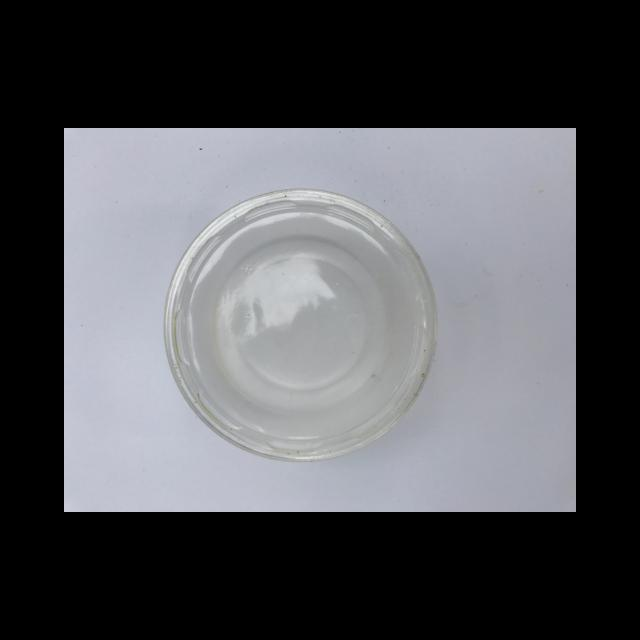plastic: (163, 188, 436, 461)
